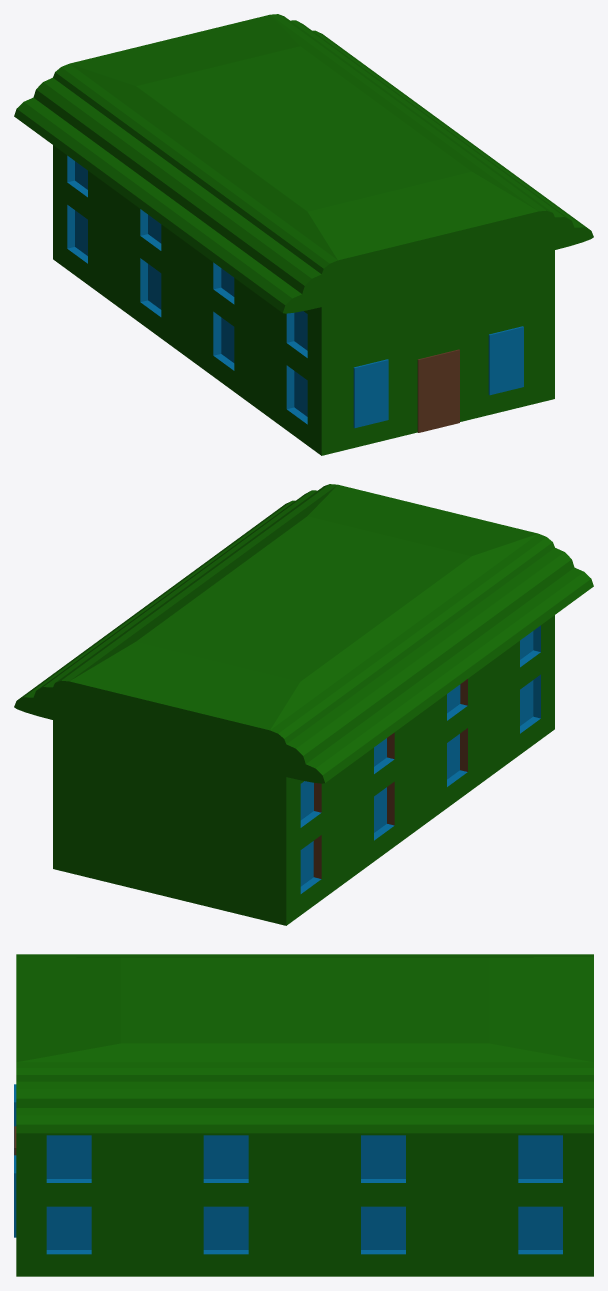
File: village-hub.fbx
3 views of the same model, one above another, from view 1: azimuth 30°, elevation 25°; view 2: azimuth 150°, elevation 25°; view 3: azimuth 270°, elevation 25° (orthographic). The views are drawn at different scales.
Visible parts, largest first — view 1: Main Building; view 2: Main Building; view 3: Main Building.
Part boxes in pixels (x1,y1,x2,y2): Main Building: (14,14,593,455); Main Building: (14,484,593,925); Main Building: (14,954,593,1276).
Bounding box in the file's own units: 999 × 614 × 1500.
